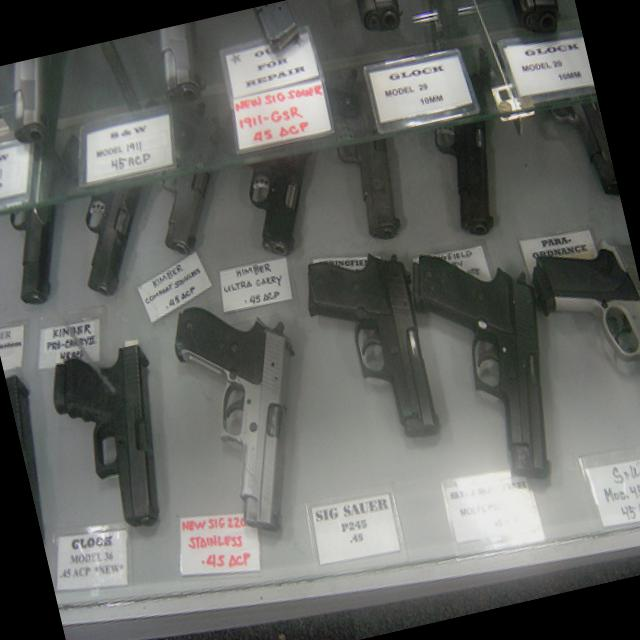handgun: (404, 230, 570, 516), (162, 280, 338, 542), (300, 242, 442, 454), (40, 336, 183, 536), (520, 219, 639, 439), (282, 58, 416, 245), (208, 76, 334, 260), (45, 106, 164, 294), (123, 77, 236, 258), (468, 0, 576, 55), (346, 0, 416, 50)
